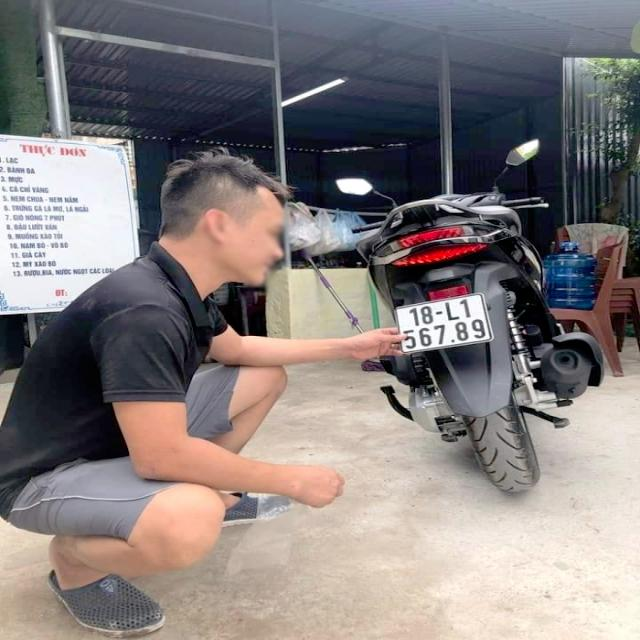license_plate: (397, 296, 495, 355)
